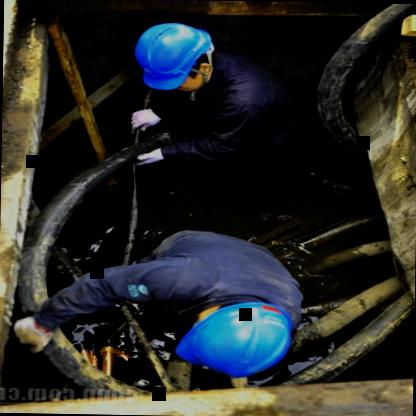helmet: (157, 281, 304, 377), (124, 17, 218, 96)
